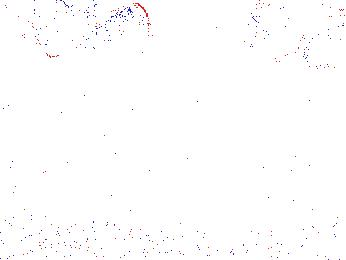moon jellyfish: (73, 2, 150, 74), (59, 26, 124, 99), (292, 9, 346, 72), (250, 2, 296, 64), (32, 1, 78, 59), (1, 30, 26, 95)
